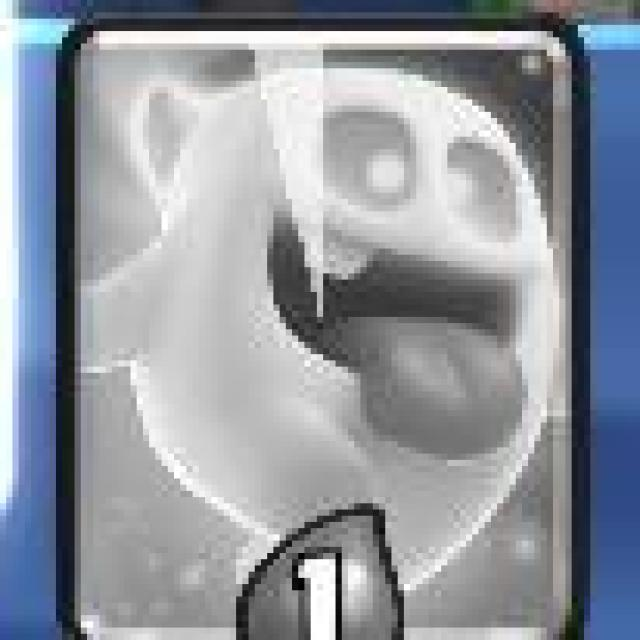Heal_Spirit: (58, 20, 590, 640)
